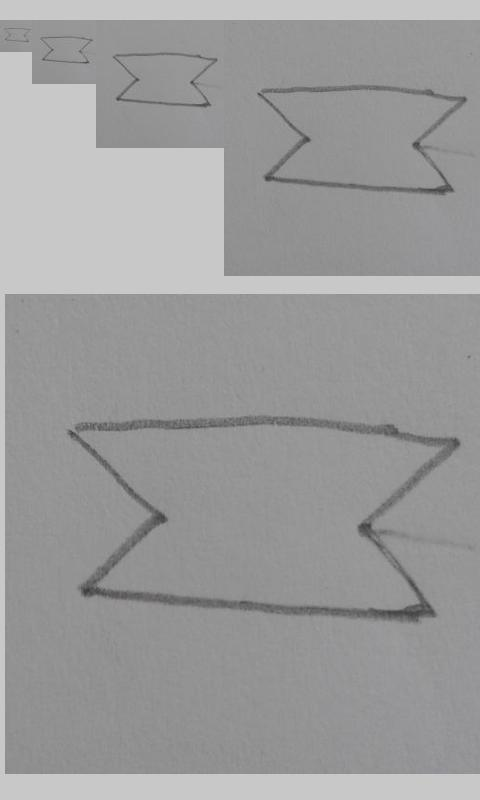edit_text: (63, 413, 458, 624), (256, 84, 467, 195), (111, 51, 217, 109), (40, 36, 93, 64), (3, 27, 31, 43)
